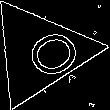O_SW: (4, 20, 77, 85)
